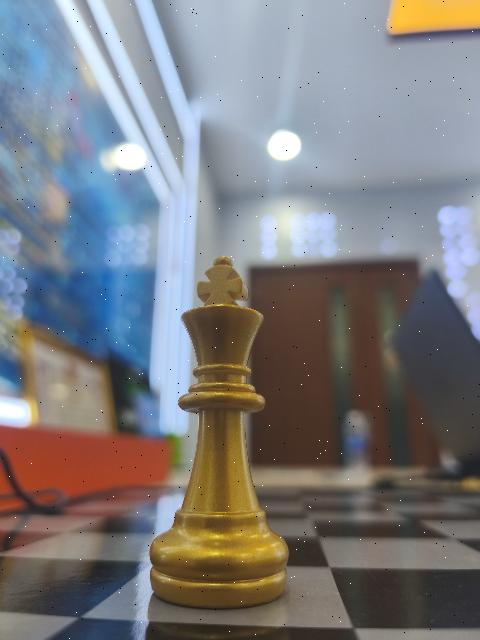black_king: (148, 251, 286, 613)
